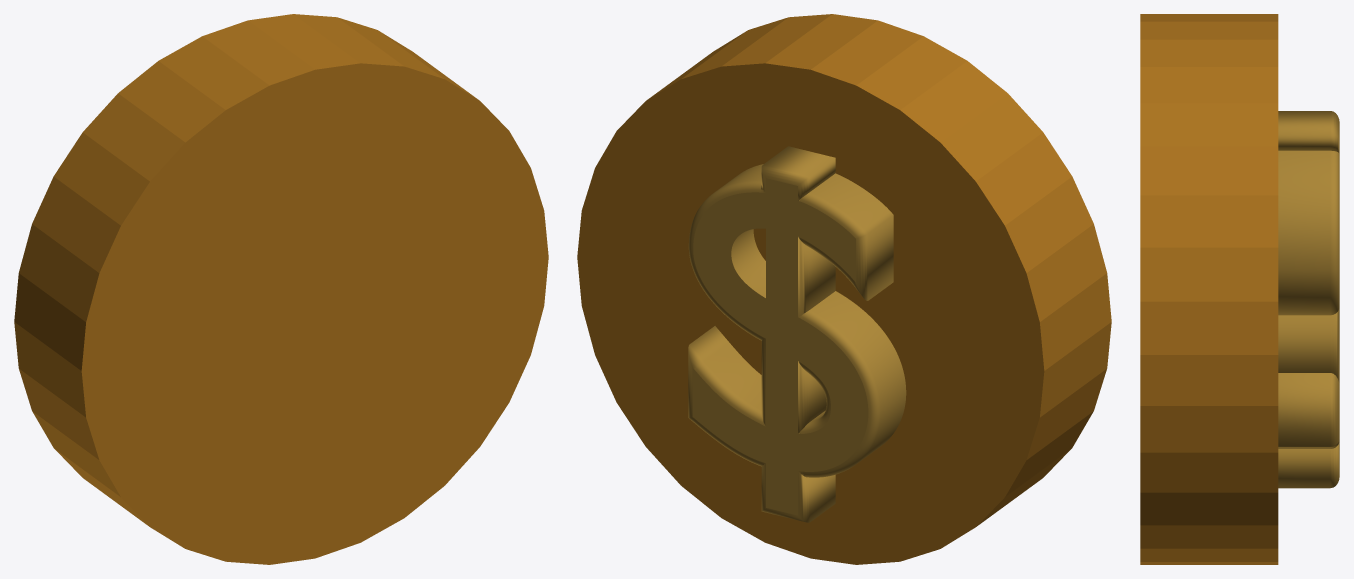
File: coin.glb
3 renders of one model, left to right at view 1: azimuth 30°, elevation 25°; view 2: azimuth 150°, elevation 25°; view 3: azimuth 270°, elevation 25°, orthographic. The views are drawn at different scales.
Visible parts, largest first — view 1: Cylinder.004; view 2: Cylinder.004; view 3: Cylinder.004.
Part boxes in pixels (left/top/right/bottom): Cylinder.004: left=14, top=14, right=548, bottom=564; Cylinder.004: left=577, top=14, right=1111, bottom=564; Cylinder.004: left=1140, top=14, right=1339, bottom=564.
Bounding box in the file's own units: 1.2 × 1.2 × 0.4338.
